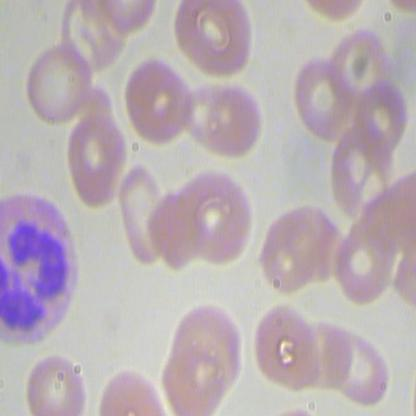RBC: (169, 166, 258, 273), (185, 72, 265, 158), (64, 108, 126, 215), (172, 1, 254, 80), (252, 301, 321, 393), (124, 57, 193, 145), (23, 40, 92, 127), (164, 328, 232, 414), (119, 159, 168, 267), (292, 58, 355, 140), (335, 224, 398, 306), (353, 80, 412, 156), (24, 348, 89, 416)
WBC: (1, 188, 79, 354)
